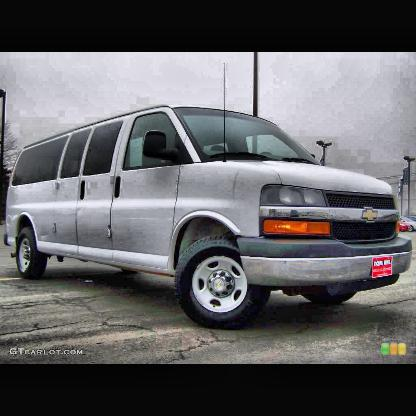Chevrolet Express Van 2007: (4, 105, 408, 332)
